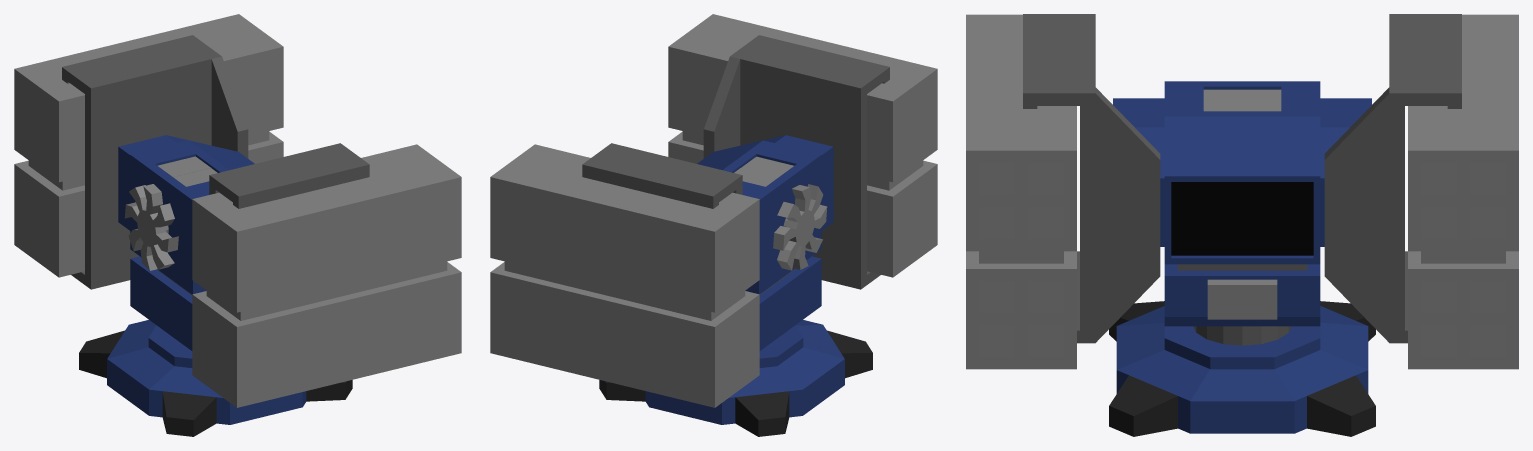
Rendered from LAD 1.fbx.
3 renders of one model, left to right at view 1: azimuth 30°, elevation 25°; view 2: azimuth 150°, elevation 25°; view 3: azimuth 270°, elevation 25°, orthographic. The views are drawn at different scales.
Visible parts, largest first — view 1: Model_RA, Model_LA, Model_B, Model_BD, Model_WP1, Model_WP3B, Model_WP3A; view 2: Model_LA, Model_RA, Model_B, Model_BD, Model_WP1, Model_WP3A, Model_WP3B; view 3: Model_RA, Model_LA, Model_BD, Model_B, Model_WP2, Model_WP3B, Model_WP3A.
Part boxes in pixels (x1,y1,x2,y2): Model_RA: [192, 143, 461, 407]; Model_LA: [14, 14, 283, 289]; Model_B: [79, 320, 352, 436]; Model_BD: [118, 135, 254, 350]; Model_WP1: [124, 184, 178, 270]; Model_WP3B: [158, 156, 210, 177]; Model_WP3A: [173, 168, 217, 186]; Model_LA: [490, 143, 759, 407]; Model_RA: [668, 14, 937, 289]; Model_B: [599, 320, 872, 436]; Model_BD: [697, 135, 833, 350]; Model_WP1: [773, 184, 827, 270]; Model_WP3A: [741, 156, 793, 176]; Model_WP3B: [734, 168, 778, 186]; Model_RA: [966, 14, 1160, 369]; Model_LA: [1324, 14, 1518, 369]; Model_BD: [1113, 81, 1371, 326]; Model_B: [1109, 301, 1375, 436]; Model_WP2: [1207, 279, 1277, 319]; Model_WP3B: [1242, 89, 1281, 111]; Model_WP3A: [1203, 89, 1242, 111].
Size of the model in its own units: 504 by 557 by 854.
